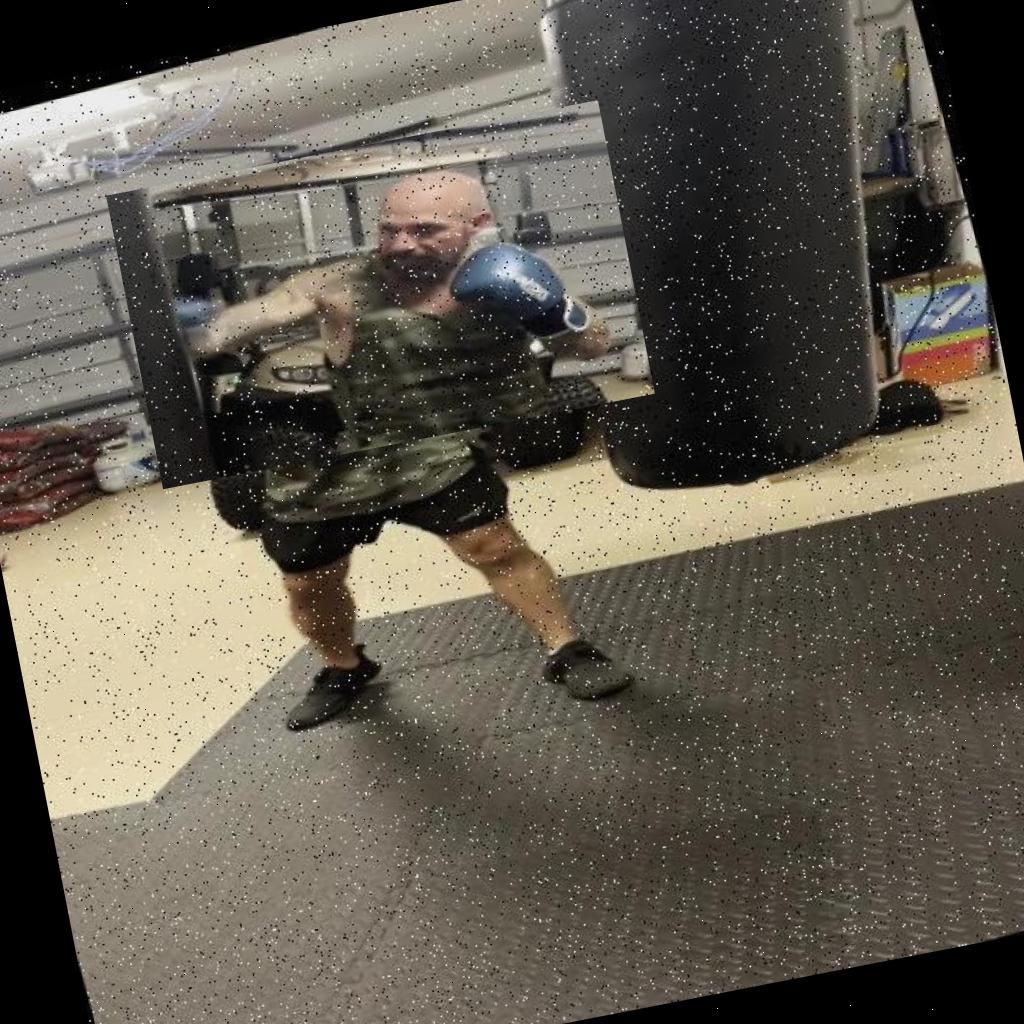cross: (106, 100, 655, 489)
